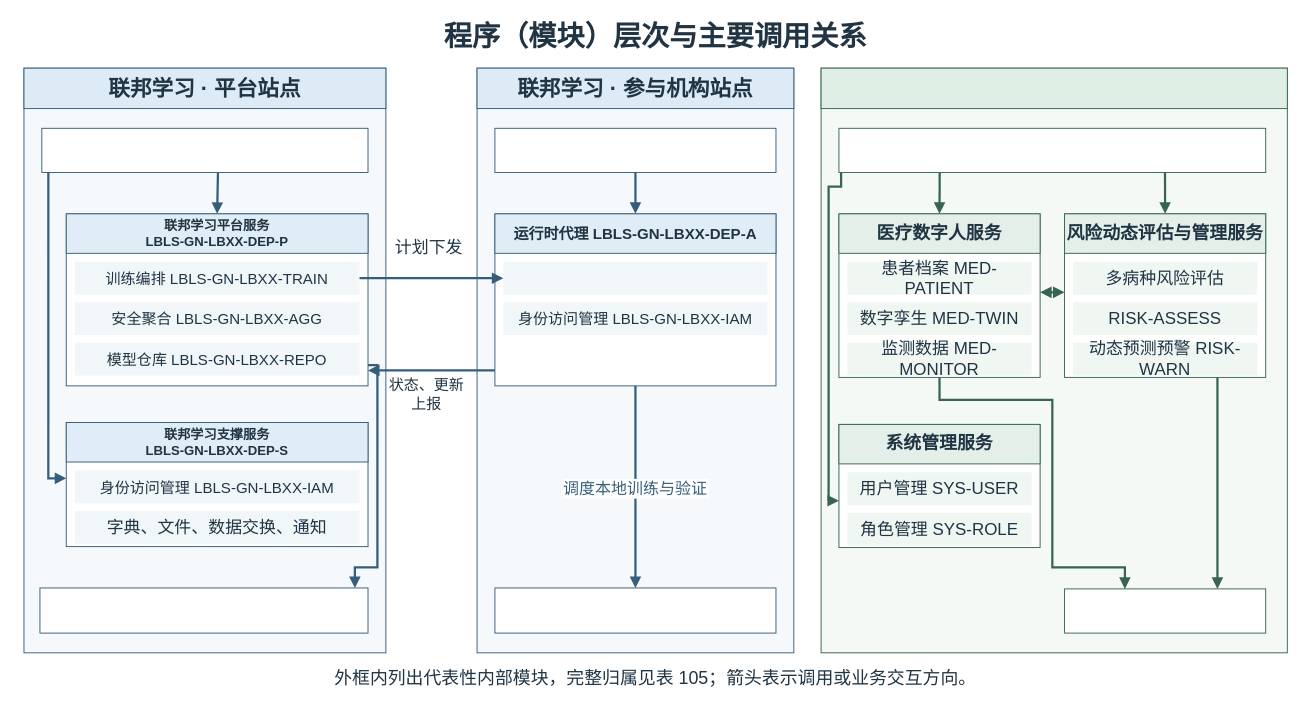
Image size: 1310x709. Some labels were removed from this diagram. Each missing label, with the centre of its shape:
"医疗数字人、风险评估与系统管理前端" belongs at point 1052,149.
"参与机构侧训练引擎 LBLS-GN-LBXX-DEP-E" belongs at point 635,610.
"应用模型推理服务 按场景调用" belongs at point 1165,610.
"机构侧孪生应用" belongs at point 1053,88.
"联邦学习平台侧控制台 LBLS-GN-LBXX-DEP-UI-P" belongs at point 204,149.
"联邦学习平台侧聚合引擎 LBLS-GN-LBXX-DEP-AGG" belongs at point 203,610.
"运行时代理控制台 LBLS-GN-LBXX-DEP-UI-A" belongs at point 635,149.
"运行时代理操作 LBLS-GN-LBXX-AGENT" belongs at point 635,277.
